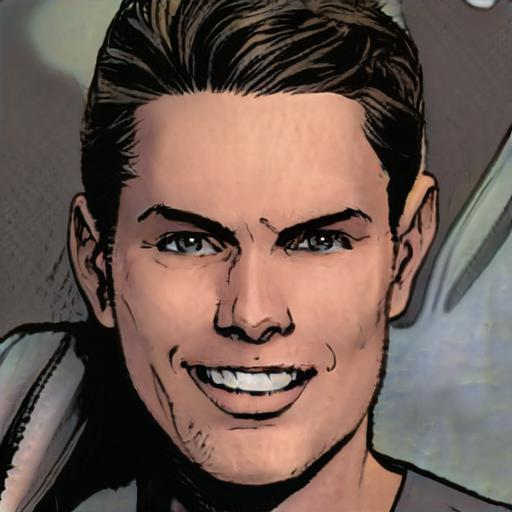NoHuman: (0, 0, 336, 396)
